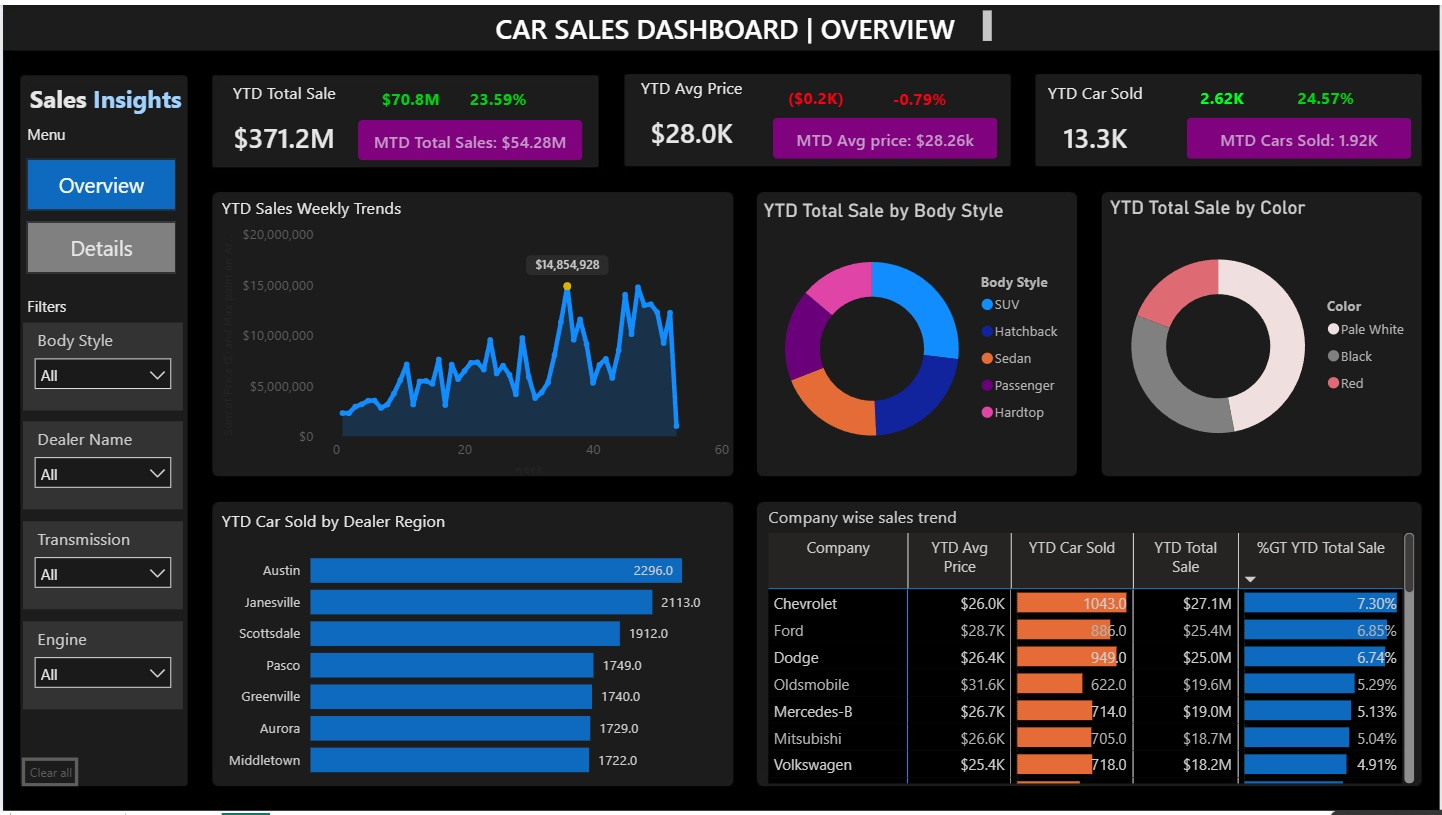

This screenshot's page, from the dashboard's own definition file:
{"tool":"powerbi","page":{"name":"Overview","canvas":[1280,720],"ordinal":0},"visuals":[{"type":"cardVisual","title":"YTD Total Sale","fields":{"Data":["car_data.YTD Total Sale"]},"box":[195.1,67.5,111.7,77.3],"z":0},{"type":"cardVisual","title":"Sales Difference","fields":{"Data":["car_data.Sales Difference"]},"box":[316.8,64.5,92,36.8],"z":1000},{"type":"cardVisual","title":"Sales Difference","fields":{"Data":["car_data.YoY Sales Growth"]},"box":[395.3,64.5,92,36.8],"z":2000},{"type":"cardVisual","fields":{"Data":["car_data.MTD KPI"]},"box":[316.2,102.5,200,36.2],"z":3000},{"type":"cardVisual","title":"YTD Avg Price","fields":{"Data":["car_data.YTD Avg Price"]},"box":[557.5,63.8,111.2,77.5],"z":4000},{"type":"cardVisual","title":"Sales Difference","fields":{"Data":["car_data.Avg Price Difference"]},"box":[677.5,63.8,92.5,36.2],"z":5000},{"type":"cardVisual","title":"Sales Difference","fields":{"Data":["car_data.YoY Avg Price Growth"]},"box":[770,65,92.5,36.2],"z":6000},{"type":"cardVisual","fields":{"Data":["car_data.MTD Avg Price KPI"]},"box":[686.2,100,200,37.5],"z":7000},{"type":"cardVisual","title":"YTD Car Sold","fields":{"Data":["car_data.YTD Car Sold"]},"box":[917.5,67.5,111.2,77.5],"z":8000},{"type":"cardVisual","title":"Sales Difference","fields":{"Data":["car_data.Car Sold Diff"]},"box":[1040,63.8,92.5,36.2],"z":9000},{"type":"cardVisual","title":"Sales Difference","fields":{"Data":["car_data.YoY Car Sold Growth"]},"box":[1132.5,63.8,92.5,36.2],"z":10000},{"type":"cardVisual","fields":{"Data":["car_data.MTD Cars Sold KPI"]},"box":[1053.8,100,200,37.5],"z":11000},{"type":"areaChart","title":"YTD Sales Weekly Trends","fields":{"Category":["Calendar Table.week"],"Y":["Sum(car_data.Price ($))","car_data.Max point on Area Chart"]},"box":[195,170,455,248.8],"z":12000},{"type":"donutChart","fields":{"Y":["car_data.YTD Total Sale"],"Category":["car_data.Body Style"]},"box":[672.4,172.9,281.3,248.4],"z":13000},{"type":"donutChart","fields":{"Y":["car_data.YTD Total Sale"],"Category":["car_data.Color"]},"box":[981.1,170.2,281.3,248.4],"z":14000},{"type":"barChart","fields":{"Category":["car_data.Dealer_Region"],"Y":["car_data.YTD Car Sold"]},"box":[195.1,449.1,452.8,246.6],"z":15000},{"type":"pivotTable","title":"Company wise sales trend","fields":{"Rows":["car_data.Company"],"Values":["car_data.YTD Avg Price","car_data.YTD Car Sold","car_data.YTD Total Sale1","car_data.YTD Total Sale"]},"box":[677.3,445.4,585.3,252.8],"z":16000},{"type":"textbox","box":[408.6,0,477.3,39.3],"z":17000},{"type":"slicer","fields":{"Values":["car_data.Body Style"]},"box":[17.3,282.6,142.3,78.5],"z":18000},{"type":"slicer","fields":{"Values":["car_data.Dealer_Name"]},"box":[17.3,371.2,142.3,78.5],"z":19000},{"type":"slicer","fields":{"Values":["car_data.Transmission"]},"box":[17.3,459.8,142.3,78.5],"z":20000},{"type":"slicer","fields":{"Values":["car_data.Engine"]},"box":[17.3,548.5,142.3,78.5],"z":21000},{"type":"textbox","box":[17.2,101.8,101.8,30.7],"z":22000},{"type":"textbox","box":[17.2,254,101.8,29.4],"z":24000},{"type":"textbox","box":[18.4,63.8,150.9,42.9],"z":25000},{"type":"pageNavigator","box":[20.9,137.4,133.7,103.1],"z":26000},{"type":"actionButton","box":[17.2,669.9,50.3,25.8],"z":27000}]}

Visuals, with their boxes in screenshot pixels (x1, y1, x2, y2), scaled from the page's 1280x720 canvas onto the 1442x815 screenshot:
"YTD Total Sale" cardVisual: [x1=220, y1=76, x2=346, y2=164]
"Sales Difference" cardVisual: [x1=357, y1=73, x2=461, y2=115]
"Sales Difference" cardVisual: [x1=445, y1=73, x2=549, y2=115]
cardVisual - car_data.MTD KPI: [x1=356, y1=116, x2=582, y2=157]
"YTD Avg Price" cardVisual: [x1=628, y1=72, x2=753, y2=160]
"Sales Difference" cardVisual: [x1=763, y1=72, x2=867, y2=113]
"Sales Difference" cardVisual: [x1=867, y1=74, x2=972, y2=115]
cardVisual - car_data.MTD Avg Price KPI: [x1=773, y1=113, x2=998, y2=156]
"YTD Car Sold" cardVisual: [x1=1034, y1=76, x2=1159, y2=164]
"Sales Difference" cardVisual: [x1=1172, y1=72, x2=1276, y2=113]
"Sales Difference" cardVisual: [x1=1276, y1=72, x2=1380, y2=113]
cardVisual - car_data.MTD Cars Sold KPI: [x1=1187, y1=113, x2=1412, y2=156]
"YTD Sales Weekly Trends" areaChart: [x1=220, y1=192, x2=732, y2=474]
donutChart - car_data.YTD Total Sale x car_data.Body Style: [x1=758, y1=196, x2=1074, y2=477]
donutChart - car_data.YTD Total Sale x car_data.Color: [x1=1105, y1=193, x2=1422, y2=474]
barChart - car_data.Dealer_Region x car_data.YTD Car Sold: [x1=220, y1=508, x2=730, y2=787]
"Company wise sales trend" pivotTable: [x1=763, y1=504, x2=1422, y2=790]
textbox: [x1=460, y1=0, x2=998, y2=44]
slicer - car_data.Body Style: [x1=19, y1=320, x2=180, y2=409]
slicer - car_data.Dealer_Name: [x1=19, y1=420, x2=180, y2=509]
slicer - car_data.Transmission: [x1=19, y1=520, x2=180, y2=609]
slicer - car_data.Engine: [x1=19, y1=621, x2=180, y2=710]
textbox: [x1=19, y1=115, x2=134, y2=150]
textbox: [x1=19, y1=288, x2=134, y2=321]
textbox: [x1=21, y1=72, x2=191, y2=121]
pageNavigator: [x1=24, y1=156, x2=174, y2=272]
actionButton: [x1=19, y1=758, x2=76, y2=787]
